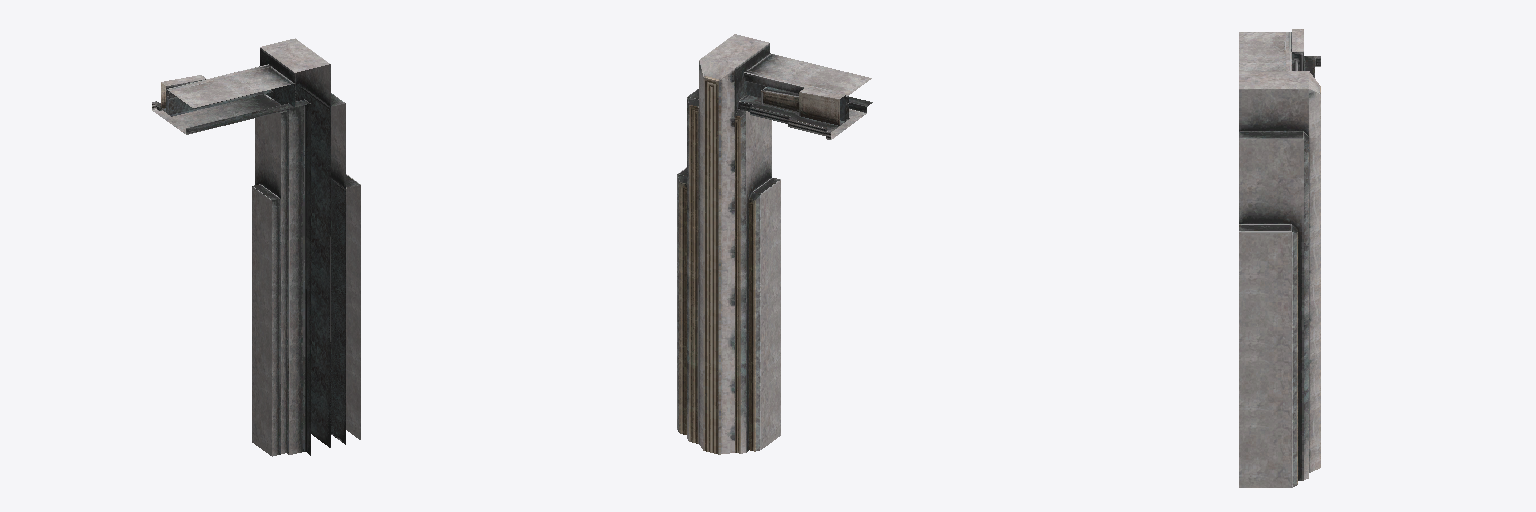
3 views of the same model, side by side, from view 1: azimuth 30°, elevation 25°; view 2: azimuth 150°, elevation 25°; view 3: azimuth 270°, elevation 25° (orthographic).
Parts seen in each view (by area): view 1: door_frame_left; view 2: door_frame_left; view 3: door_frame_left.
Boxes of the visible parts, x1=… form: door_frame_left: x1=152, y1=38, x2=360, y2=456; door_frame_left: x1=677, y1=34, x2=872, y2=454; door_frame_left: x1=1239, y1=29, x2=1320, y2=487.
Bounding box in the file's own units: 133 × 290 × 56.
Materials: 1 (1 with a texture image).